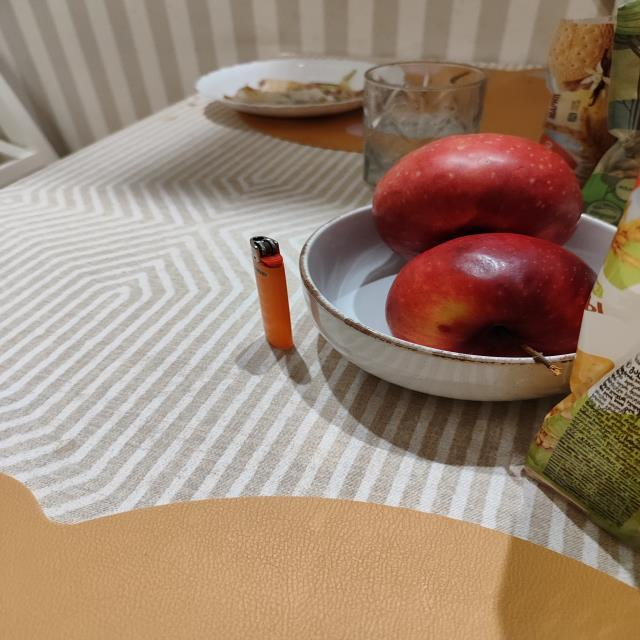lighter: (250, 237, 293, 350)
